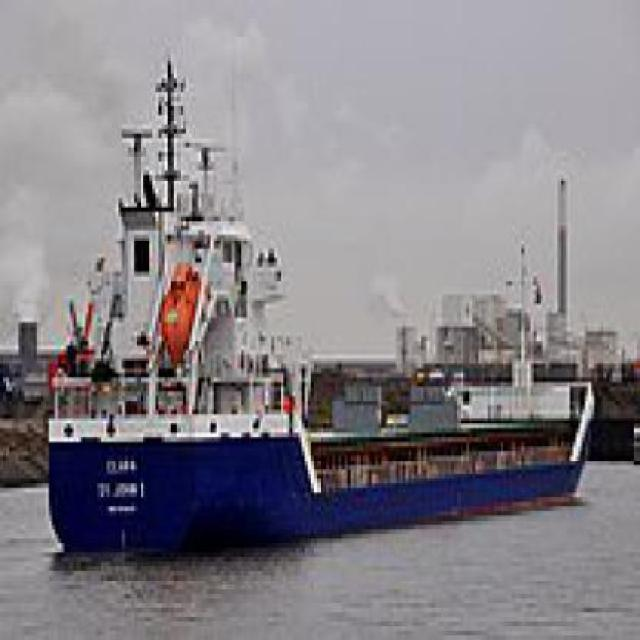container: (34, 57, 611, 568)
